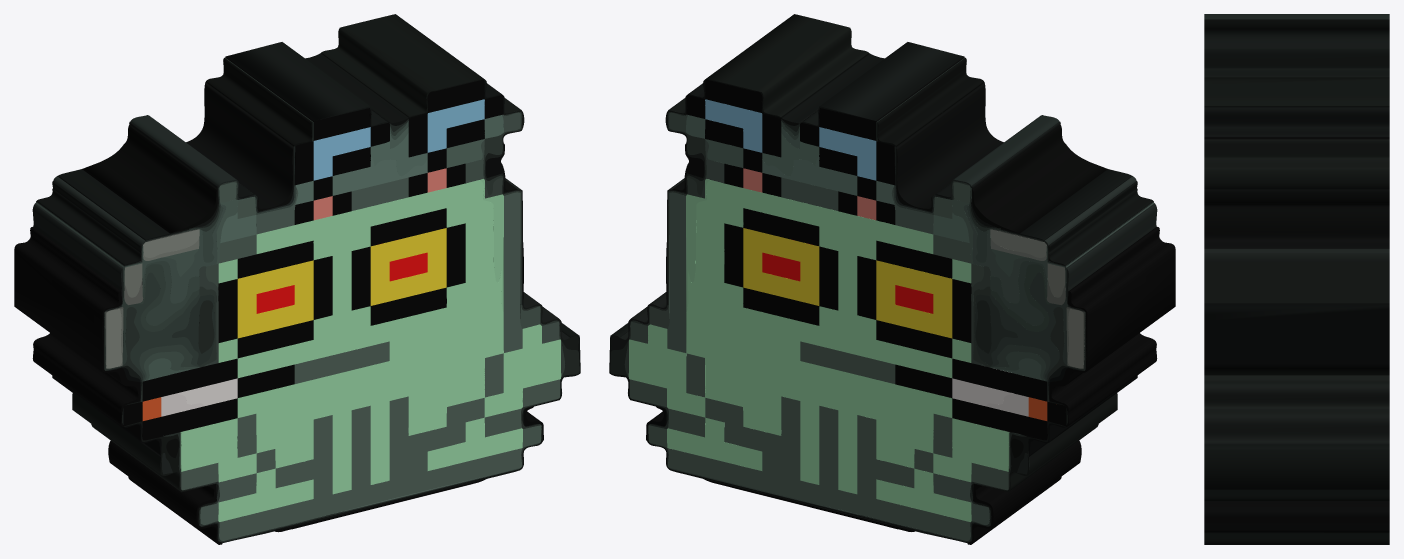
The model's file is Toadz_3639.glb.
3 renders of one model, left to right at view 1: azimuth 30°, elevation 25°; view 2: azimuth 150°, elevation 25°; view 3: azimuth 270°, elevation 25°, orthographic. The views are drawn at different scales.
Parts seen in each view (by area): view 1: Curve; view 2: Curve; view 3: Curve.
Boxes of the visible parts, x1,y1,x2,y2 form: Curve: [14, 14, 580, 544]; Curve: [609, 14, 1175, 544]; Curve: [1204, 14, 1389, 544].
Size of the model in its own units: 3.13 by 2.53 by 1.
